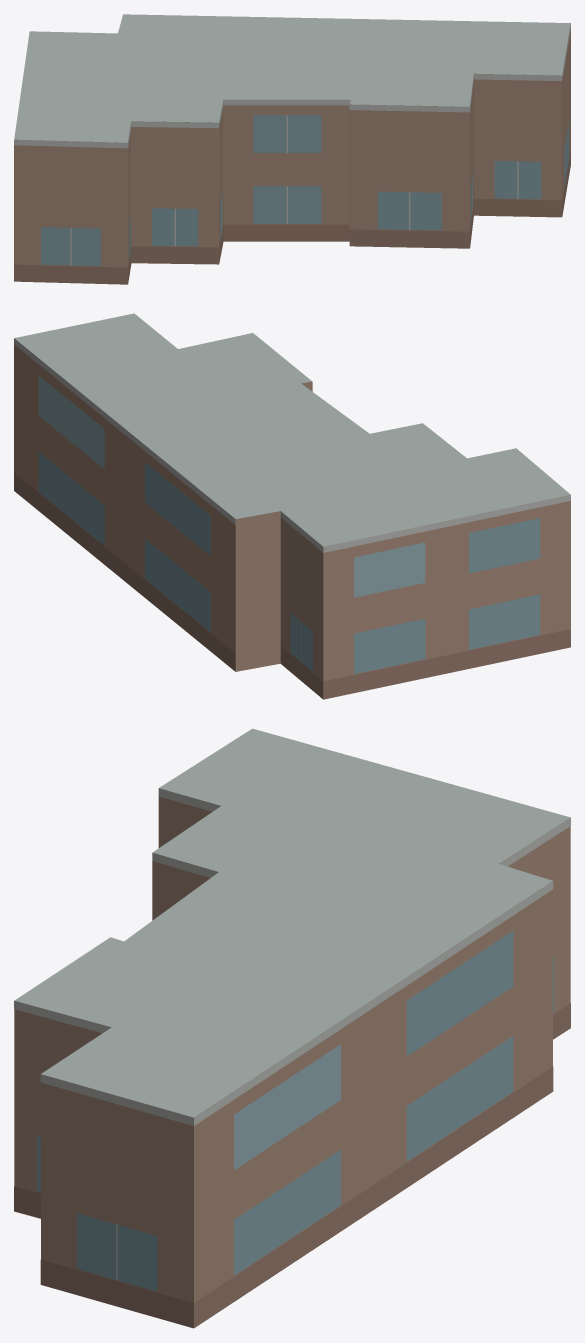
Rendered from survey-upis-32755729.glb.
3 renders of one model, top to bottom at view 1: azimuth 30°, elevation 25°; view 2: azimuth 150°, elevation 25°; view 3: azimuth 270°, elevation 25°, orthographic. The views are drawn at different scales.
Parts seen in each view (by area): view 1: survey-upis-32755729.tmp; view 2: survey-upis-32755729.tmp; view 3: survey-upis-32755729.tmp.
Boxes of the visible parts, x1,y1,x2,y2 form: survey-upis-32755729.tmp: (14,14,570,284); survey-upis-32755729.tmp: (14,313,570,699); survey-upis-32755729.tmp: (14,728,570,1328).
Size of the model in its own units: 24.17 by 6.1 by 14.62.
